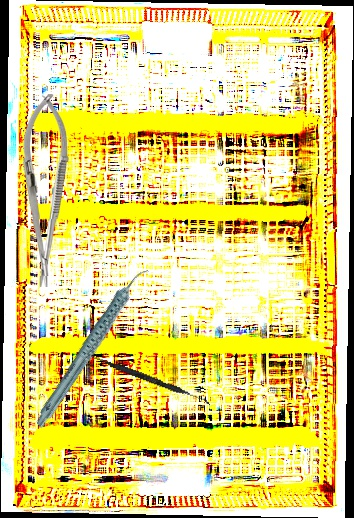Handpiece: (7, 265, 179, 430)
Needle Holder: (19, 93, 70, 288)
Spatula Surgical: (88, 354, 213, 405)
